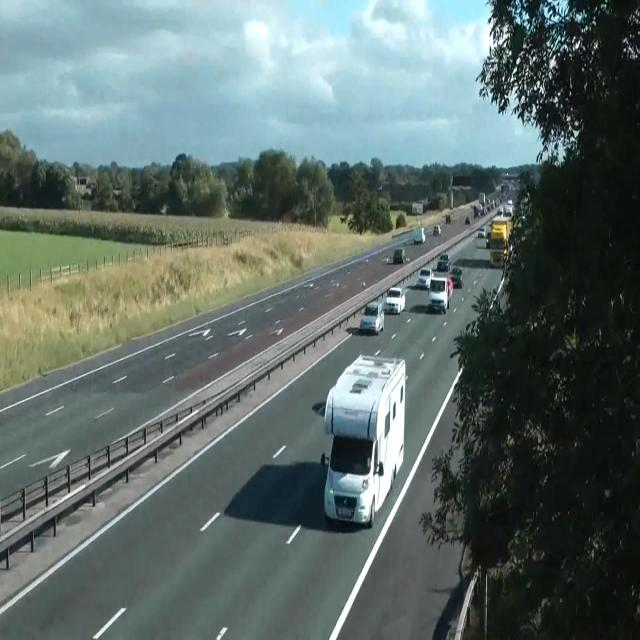bus: (416, 267, 432, 289), (393, 247, 409, 263), (433, 224, 441, 236), (477, 228, 485, 238), (439, 252, 448, 260), (486, 231, 490, 249), (465, 215, 471, 224)
car: (320, 352, 406, 528), (488, 213, 511, 267)
jeep: (427, 273, 451, 313), (359, 301, 384, 335), (383, 286, 405, 314), (448, 266, 464, 288), (436, 252, 450, 271)
minibus: (413, 227, 425, 244), (411, 202, 423, 214), (479, 192, 485, 204), (446, 213, 450, 223)
